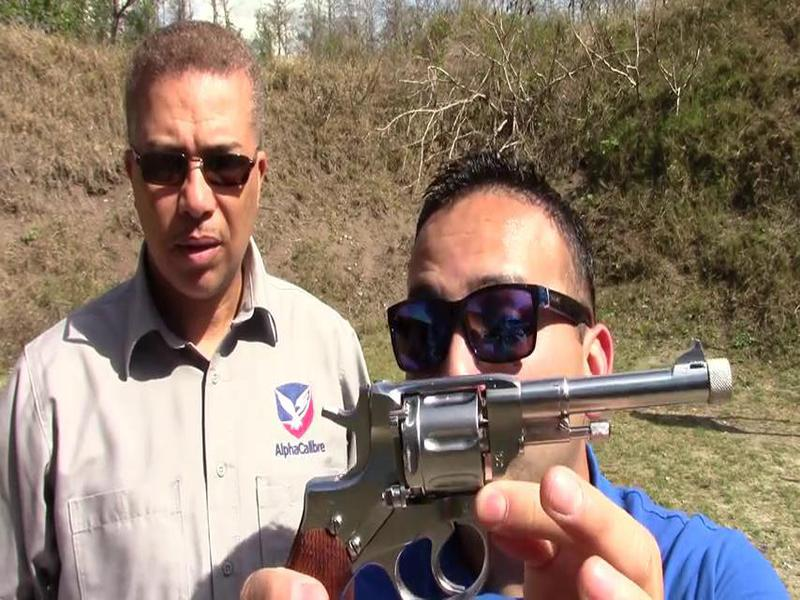Revolver: (247, 342, 783, 582)
